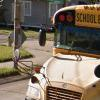Bus: (35, 6, 100, 99)
